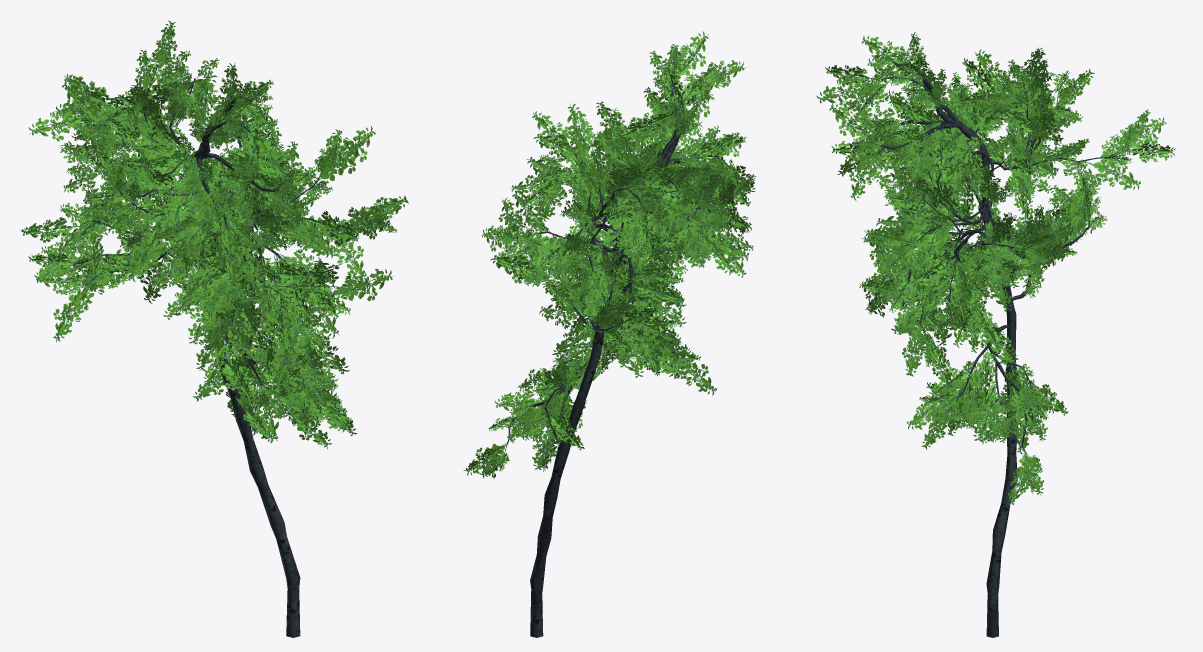
Rendered from tree-alien2.glb.
3 renders of one model, left to right at view 1: azimuth 30°, elevation 25°; view 2: azimuth 150°, elevation 25°; view 3: azimuth 270°, elevation 25°, orthographic. The views are drawn at different scales.
Visible parts, largest first — view 1: Tree; view 2: Tree; view 3: Tree.
Part boxes in pixels (x1,y1,x2,y2): Tree: (20,20,408,637); Tree: (463,31,756,637); Tree: (816,32,1175,637).
Bounding box in the file's own units: 31.22 × 63.17 × 38.64.
2 materials, 2 textured.
